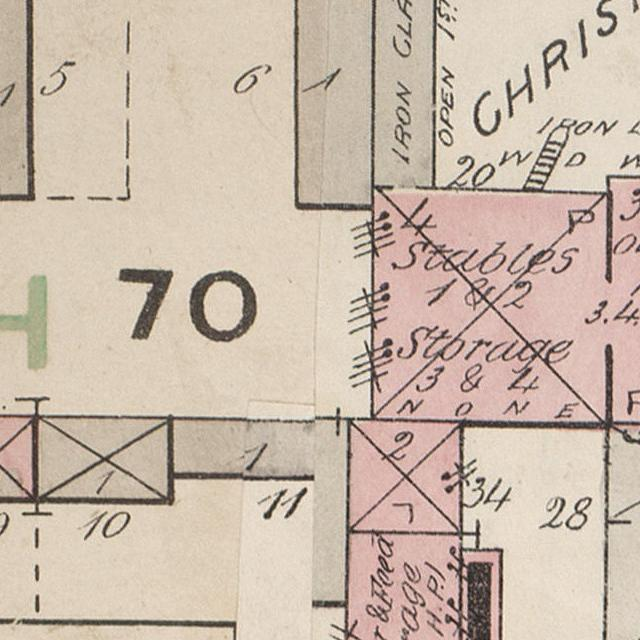building-footprints: (170, 418, 349, 604), (296, 0, 374, 207), (347, 419, 461, 534), (35, 416, 170, 501), (0, 416, 36, 499)
